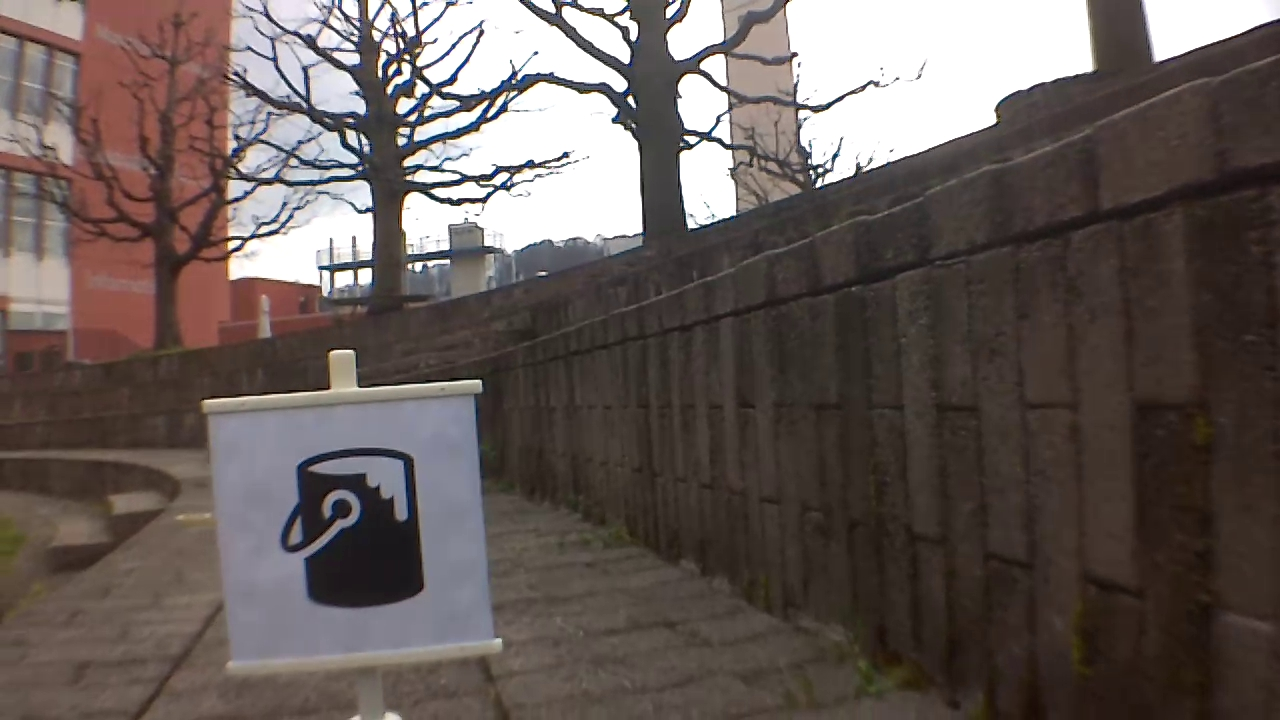bucket: (277, 448, 431, 616)
